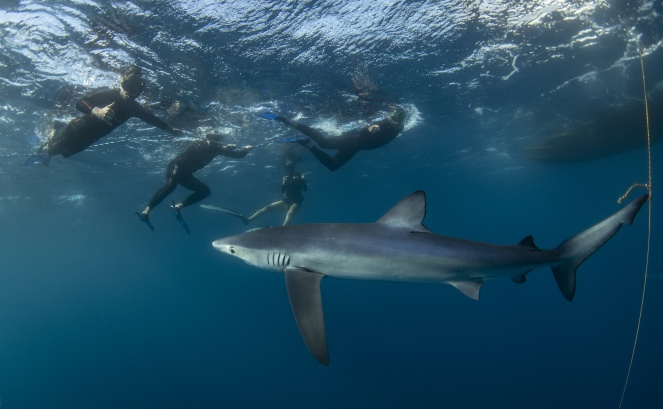Azul: (207, 186, 663, 362)
